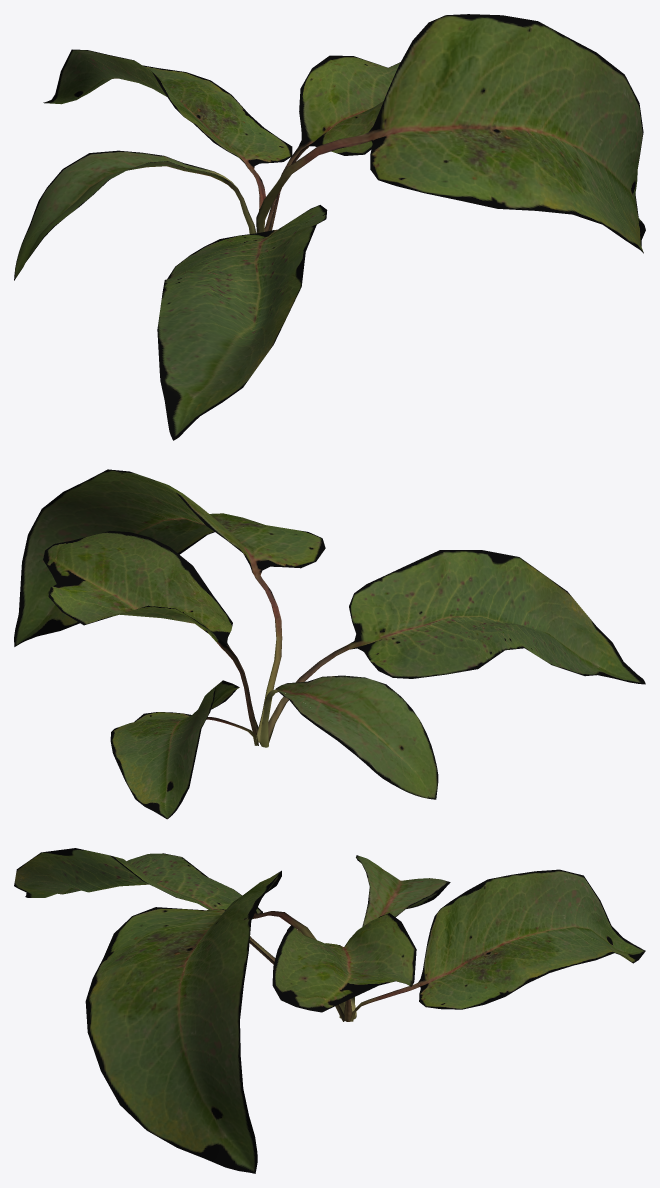
Rendered from weed_plant_02_v3.glb.
The picture shows the model from 3 angles, top to bottom: view 1: azimuth 30°, elevation 25°; view 2: azimuth 150°, elevation 25°; view 3: azimuth 270°, elevation 25°; orthographic projection. The views are drawn at different scales.
Parts seen in each view (by area): view 1: lod0; view 2: lod0; view 3: lod0.
Part boxes in pixels (box(x1,y1,x2,y2)): lod0: box(14, 14, 645, 440); lod0: box(14, 469, 645, 819); lod0: box(14, 848, 645, 1173).
Size of what is drawn, in the model's own units: 0.1424 by 0.0549 by 0.1435.
Materials: 1 (1 with a texture image).
